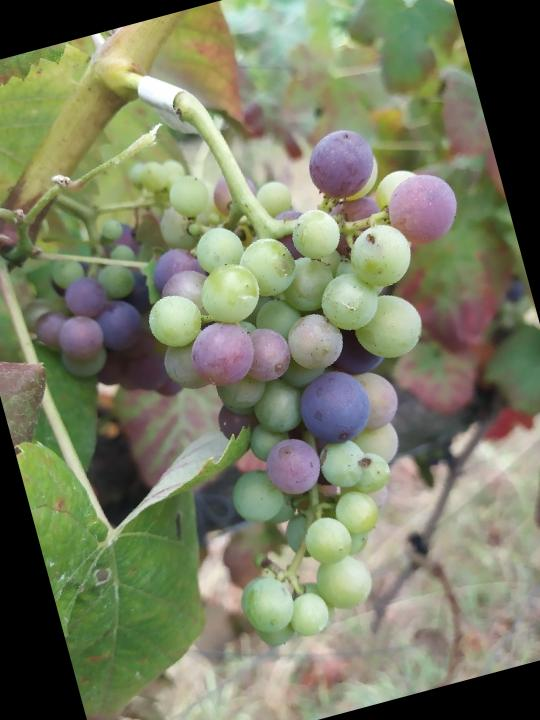grape: (109, 102, 540, 660)
